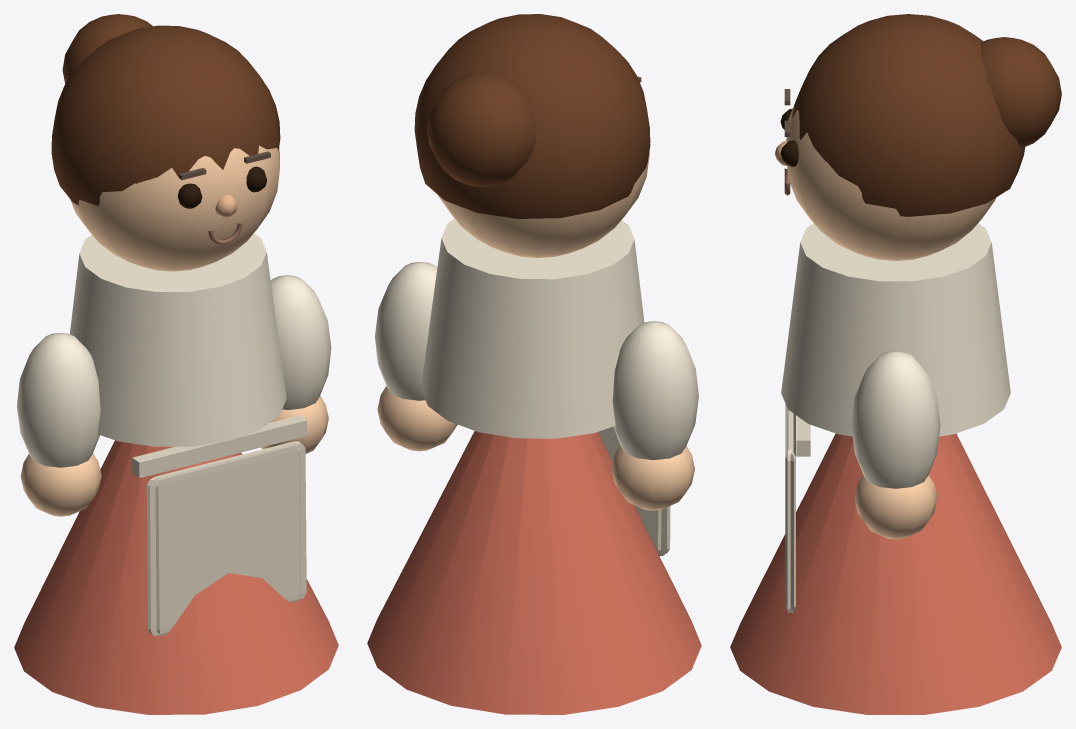
File: wife.glb
The picture shows the model from 3 angles, left to right: view 1: azimuth 30°, elevation 25°; view 2: azimuth 150°, elevation 25°; view 3: azimuth 270°, elevation 25°; orthographic projection. The views are drawn at different scales.
Bounding box in the file's own units: 1.12 × 2.19 × 1.04.
